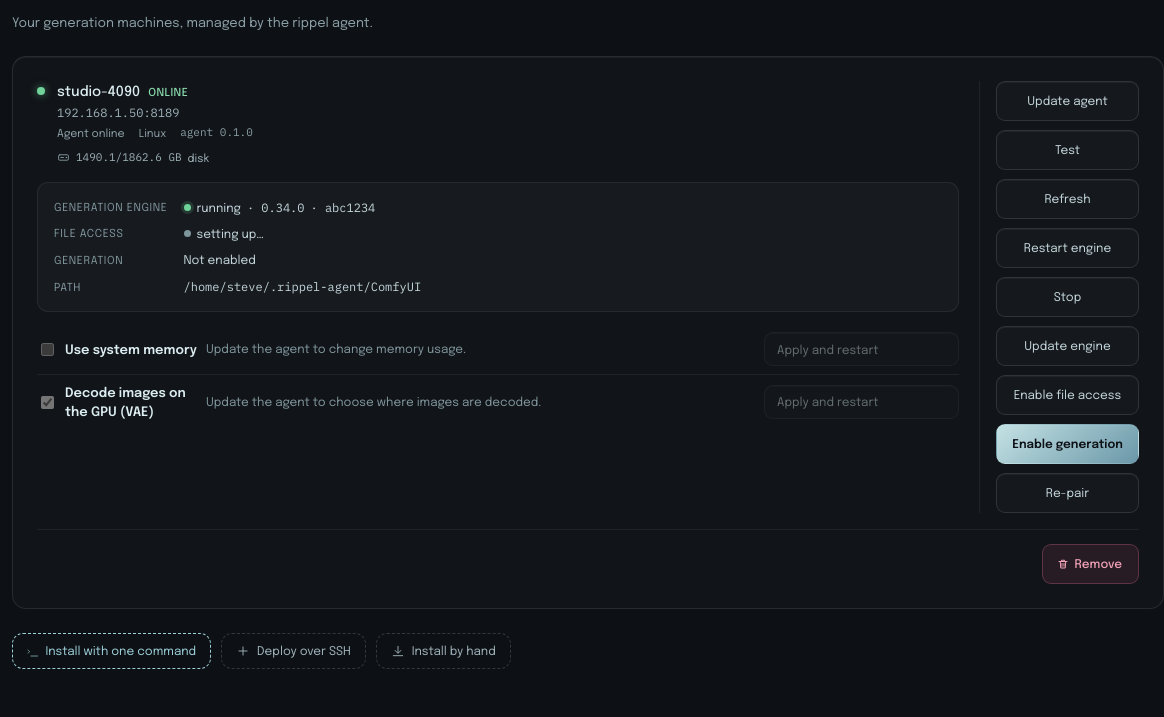
DeploymentsSection › offers the helper when it is missing, and follows the install to its log
Click the button "Enable file access" at (1068, 395), box [996,375,1139,415]
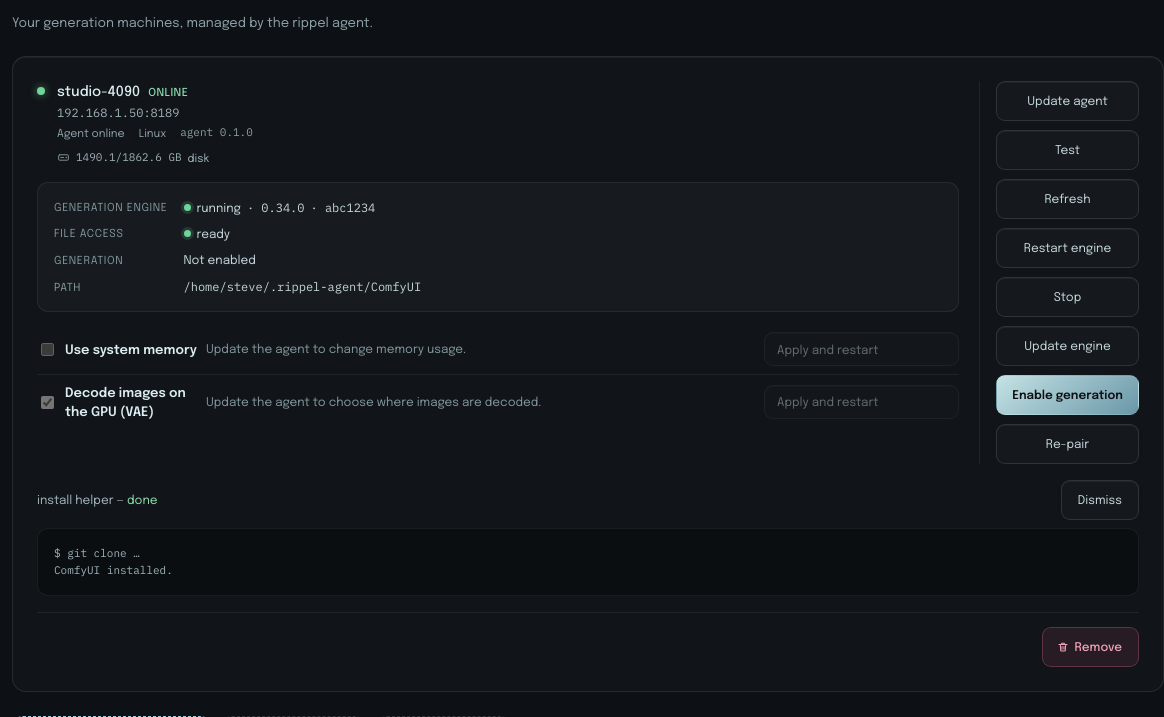
Result: the text "$ git clone … ComfyUI installed." is shown at [37,528,1139,596]
